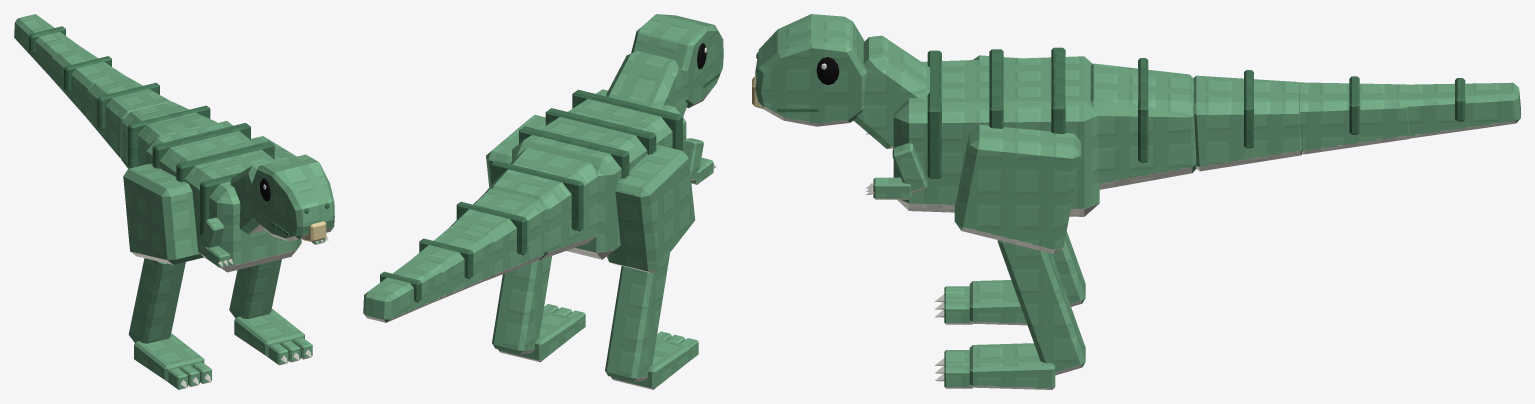
The model's file is 23_Hypsilophodon.glb.
3 renders of one model, left to right at view 1: azimuth 30°, elevation 25°; view 2: azimuth 150°, elevation 25°; view 3: azimuth 270°, elevation 25°, orthographic. The views are drawn at different scales.
Visible parts, largest first — view 1: 23_Hypsilophodon; view 2: 23_Hypsilophodon; view 3: 23_Hypsilophodon.
Part boxes in pixels (x1,y1,x2,y2): 23_Hypsilophodon: [14, 14, 334, 389]; 23_Hypsilophodon: [363, 14, 723, 389]; 23_Hypsilophodon: [752, 14, 1520, 389].
Size of the model in its own units: 1.15 by 1.84 by 4.03.
1 material, 1 textured.
